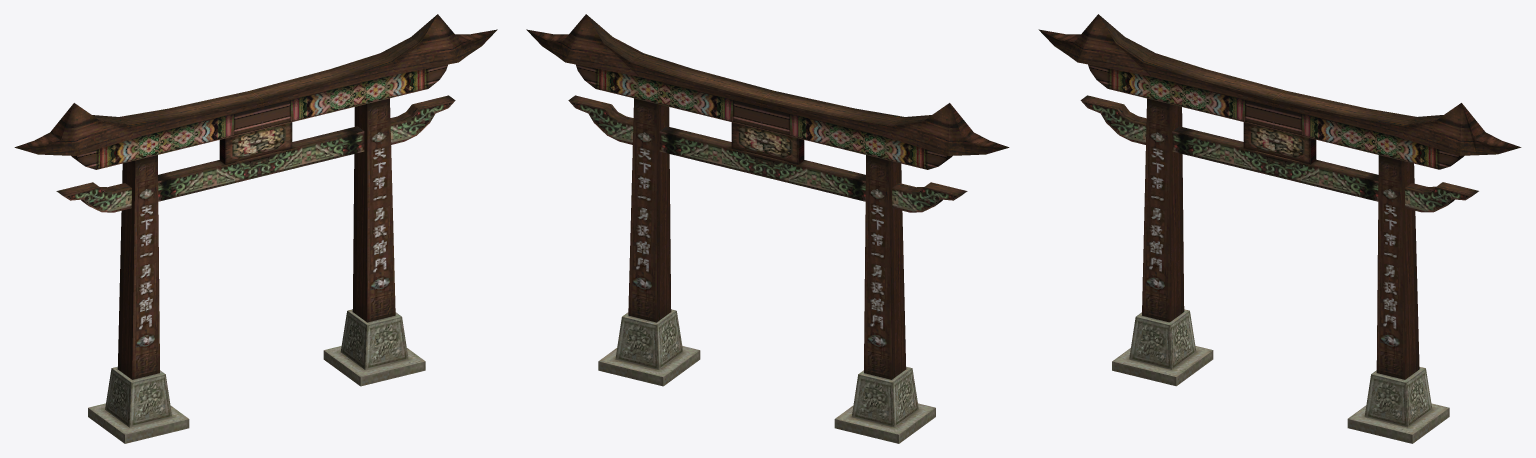
File: c1-035-woodgate.glb
3 views of the same model, side by side, from view 1: azimuth 30°, elevation 25°; view 2: azimuth 150°, elevation 25°; view 3: azimuth 330°, elevation 25° (orthographic).
Visible parts, largest first — view 1: Sphere01; view 2: Sphere01; view 3: Sphere01.
Boxes of the visible parts, left/top/right/bottom form: Sphere01: left=14, top=14, right=497, bottom=443; Sphere01: left=526, top=14, right=1009, bottom=443; Sphere01: left=1038, top=14, right=1521, bottom=443.
Bounding box in the file's own units: 20.57 × 13.63 × 2.72.
Materials: 1 (1 with a texture image).
